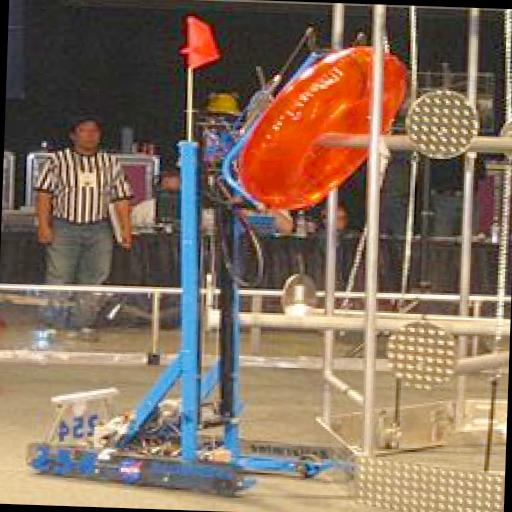robot: (36, 12, 369, 502)
